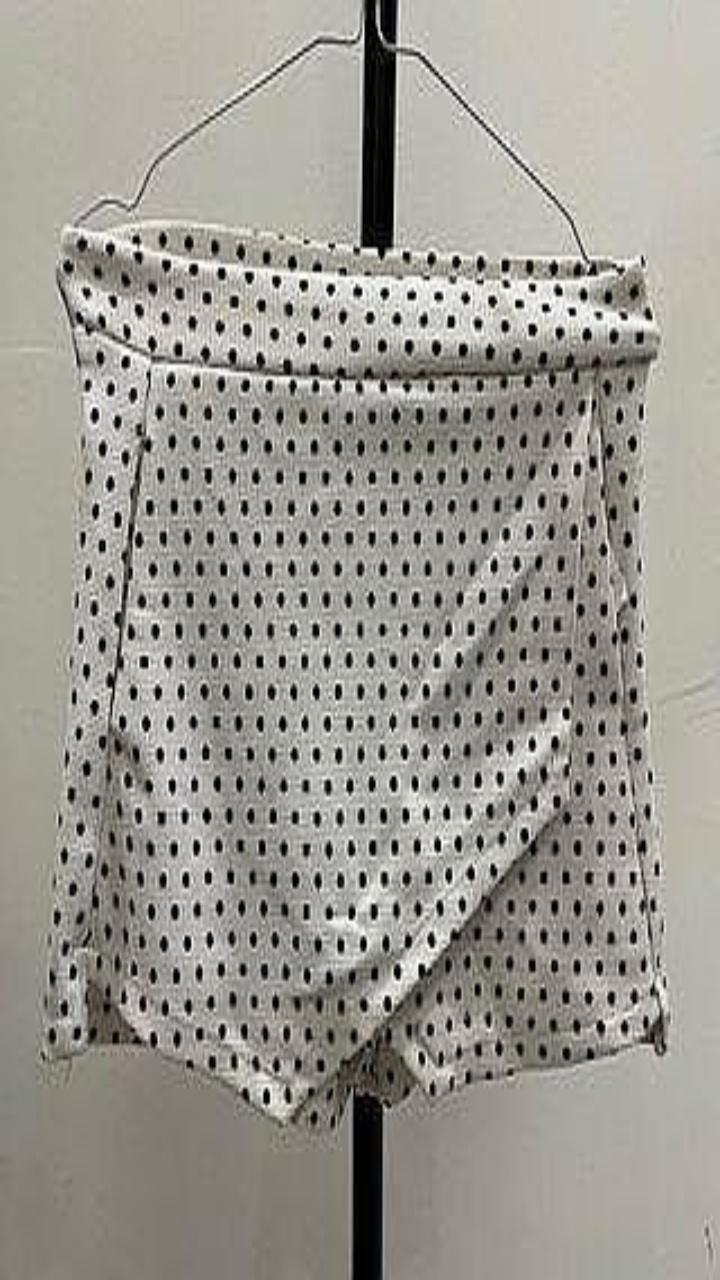Shorts: (40, 219, 668, 1127)
